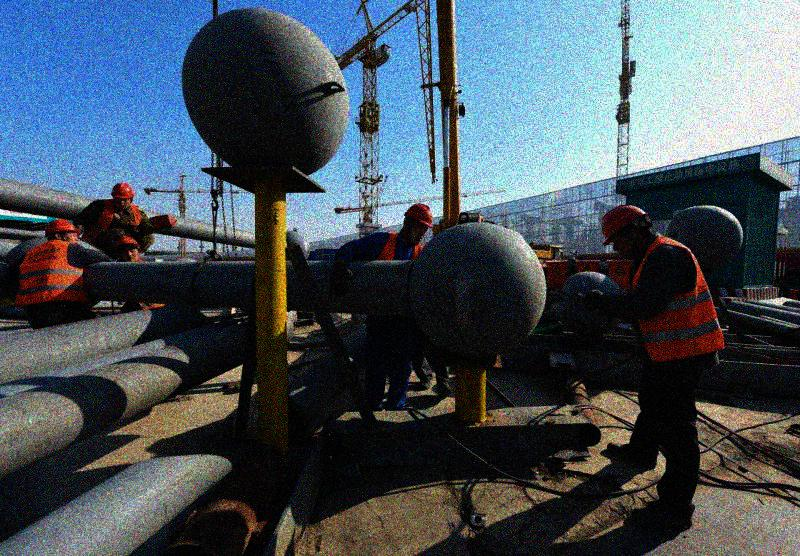helmet: (598, 203, 652, 257), (401, 203, 436, 244), (44, 217, 83, 245), (110, 182, 134, 209)
